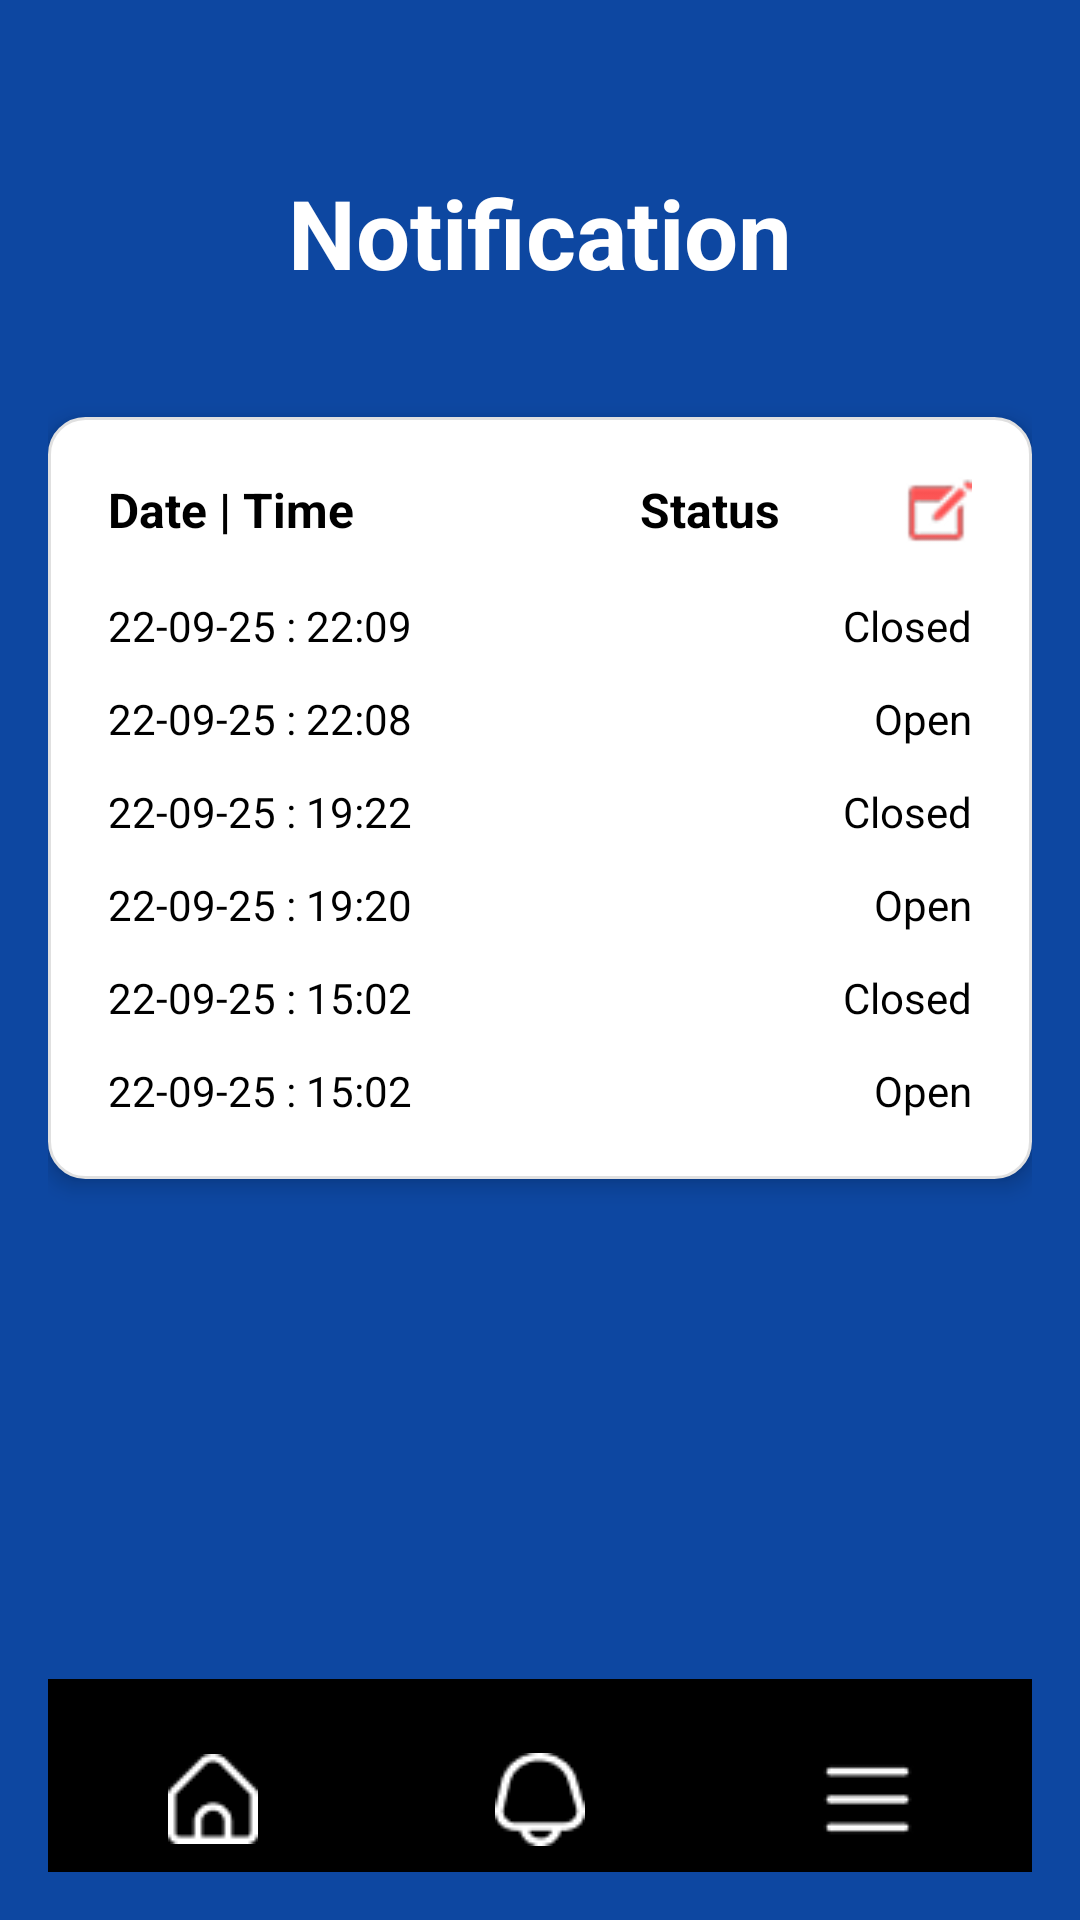

Screen size 1080×1920. Icon name, then its center in pixels as [x,y]:
edit: [940,510]
home: [213,1799]
menu: [867,1799]
notification: [540,1799]
